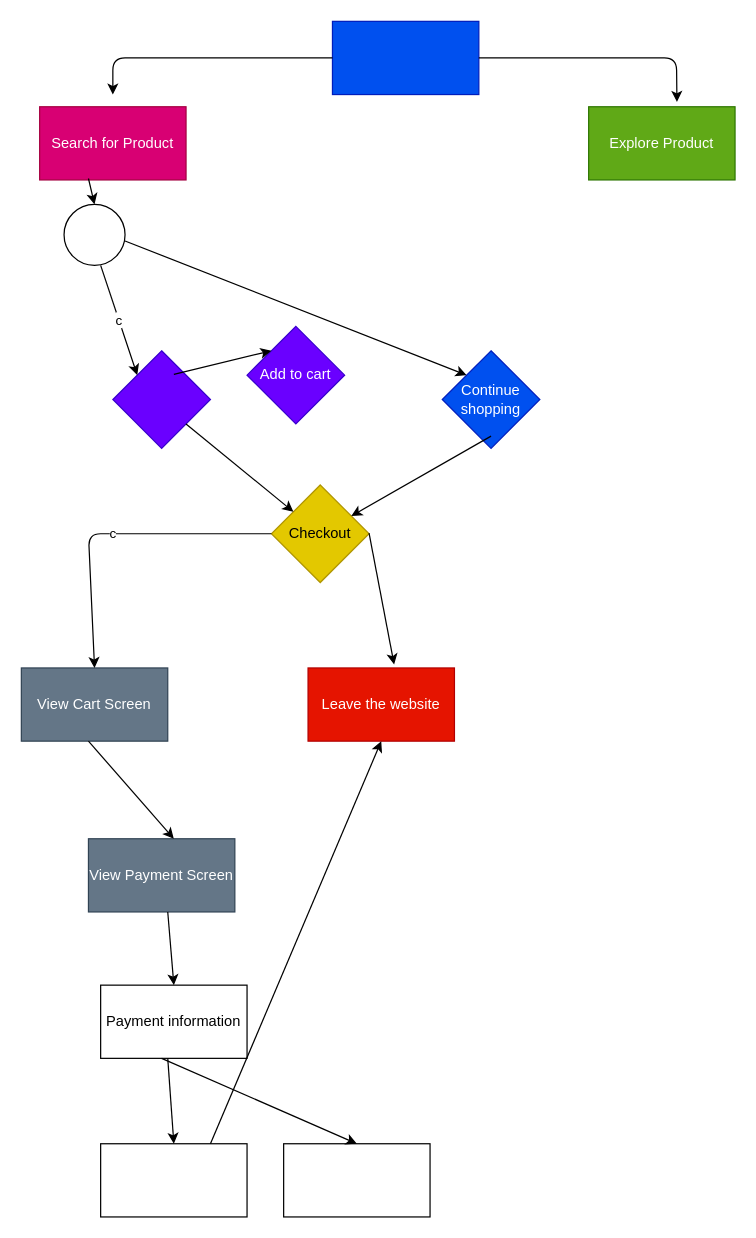
This 756x1238 diagram has some shape labels left out. The shapes that lost their labels are listed below. From the top down, each one's centre as x and y in pixels, then its label:
At point 405,57: "User Enter Site".
At point 94,234: "User Input".
At point 161,399: "Viewing specific product".
At point 173,1180: "Order confirmation".
At point 356,1180: "Receive an email".
